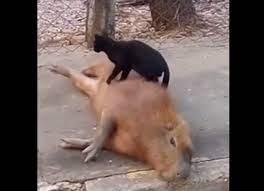capivara: (51, 62, 196, 185)
